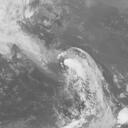cyclone: (57, 46, 110, 108)
